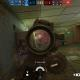Character: (40, 38, 41, 42)
Friend_label: (69, 50, 73, 53)
Head: (40, 38, 41, 39)
